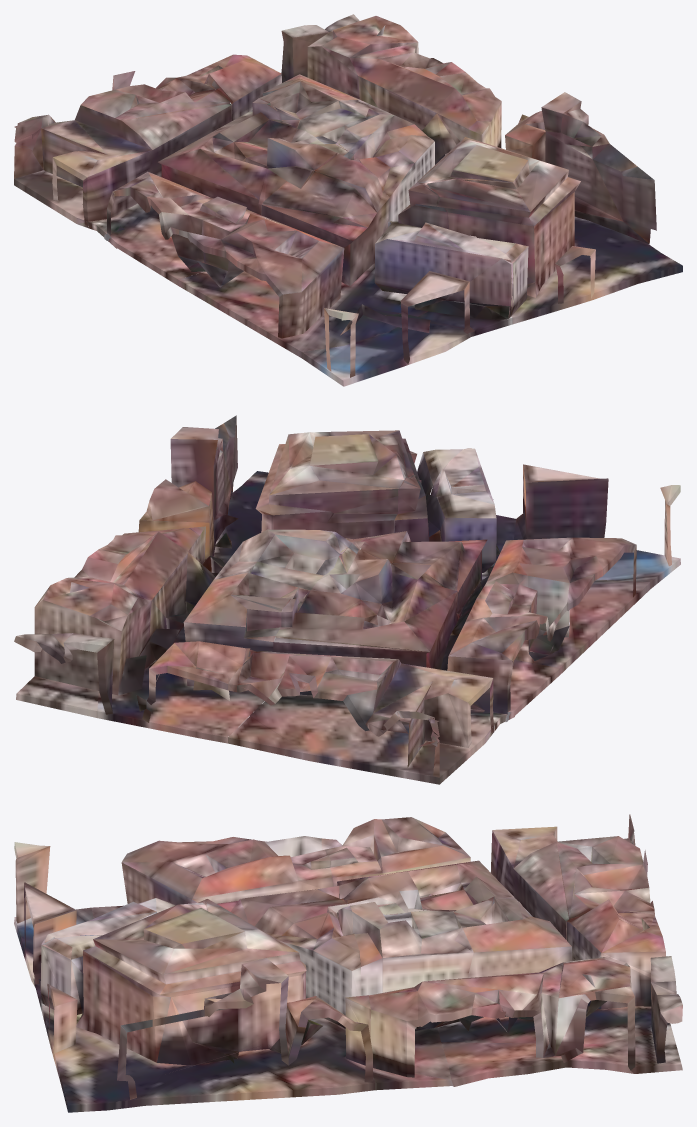
3 renders of one model, top to bottom at view 1: azimuth 30°, elevation 25°; view 2: azimuth 150°, elevation 25°; view 3: azimuth 270°, elevation 25°, orthographic. The views are drawn at different scales.
Visible parts, largest first — view 1: Mesh_0; view 2: Mesh_0; view 3: Mesh_0.
Part boxes in pixels (x1=…): Mesh_0: x1=14, y1=14, x2=682, y2=386; Mesh_0: x1=14, y1=415, x2=680, y2=784; Mesh_0: x1=14, y1=814, x2=682, y2=1112.
Bounding box in the file's own units: 133 × 36.86 × 165.
1 material, 1 textured.
